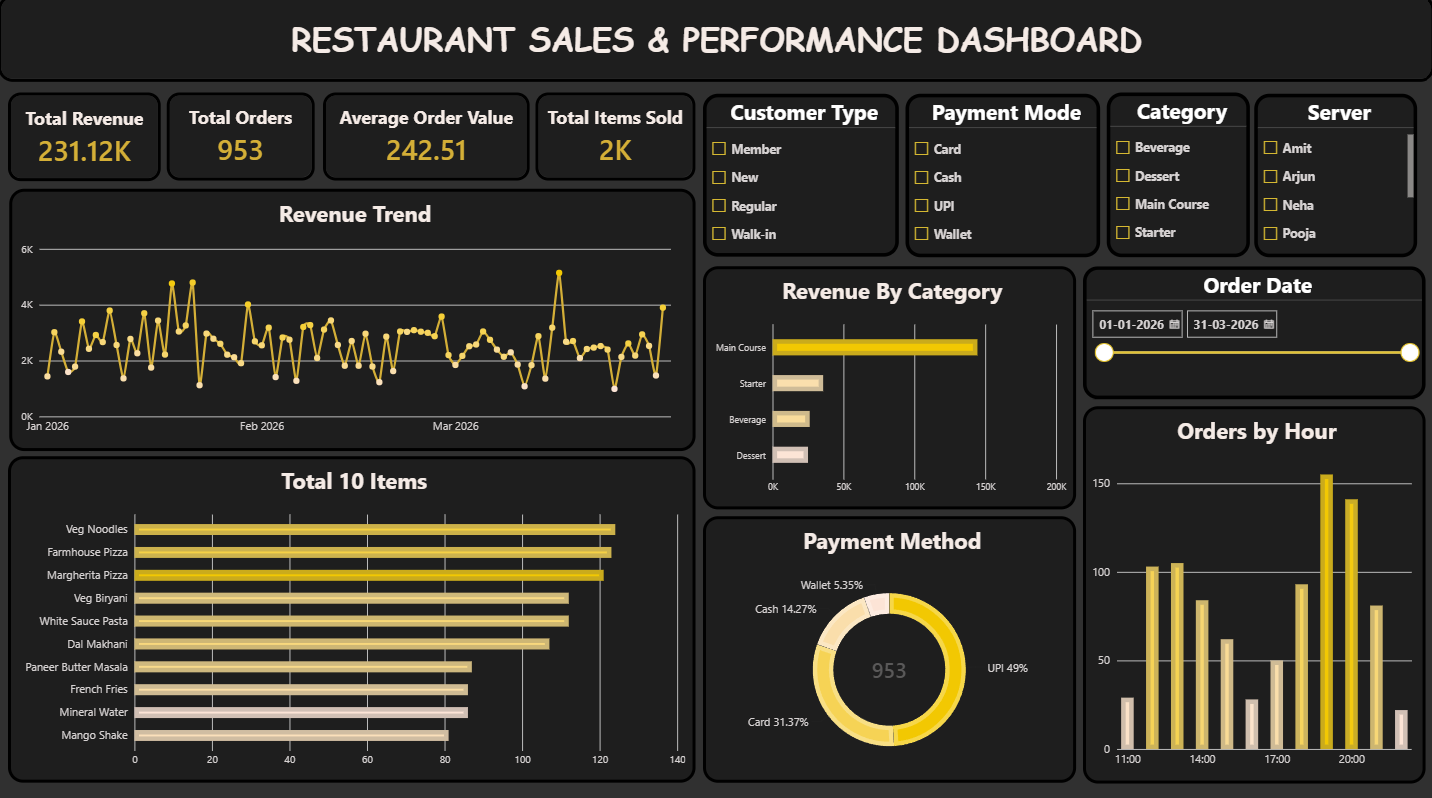

The page's visual inventory and layout, read from the dashboard file:
{"tool":"powerbi","page":{"name":"Executive Overview","canvas":[1920,1080],"ordinal":0},"visuals":[{"type":"cardVisual","fields":{"Data":["Sheet1.Total Revenue"]},"box":[14,130,204,118],"z":0},{"type":"shape","title":"│       RESTAURANT SALES & PERFORMANCE DASHBOARD       │","box":[0,0,1920.1,115.8],"z":1000},{"type":"cardVisual","fields":{"Data":["Sheet1.Total Orders"]},"box":[226.2,130,197.5,117.5],"z":2000},{"type":"cardVisual","fields":{"Data":["Sheet1.Average Order Value"]},"box":[433.8,130,276.2,117.5],"z":3000},{"type":"cardVisual","fields":{"Data":["Sheet1.Total Items Sold"]},"box":[718.8,130,213.8,117.5],"z":4000},{"type":"lineChart","title":"Revenue Trend","fields":{"Category":["Sheet1.Order_Date"],"Y":["Sheet1.Total Revenue"]},"box":[14.3,258.6,917.1,350],"z":5000},{"type":"clusteredBarChart","title":"Revenue By Category","fields":{"Category":["Sheet1.Category"],"Y":["Sheet1.Total Revenue"]},"box":[942.5,362.5,498.8,325],"z":6000},{"type":"barChart","title":"Total 10 Items","fields":{"Category":["Sheet1.Item"],"Y":["Sheet1.Total Items Sold"]},"box":[14,616,918,436],"z":7000},{"type":"columnChart","title":"Orders by Hour","fields":{"Category":["Sheet1.Order_Hour"],"Y":["Sheet1.Total Orders"]},"box":[1450,548.8,457.5,503.8],"z":8000},{"type":"donutChart","title":"Payment Method","fields":{"Category":["Sheet1.Payment_Mode"],"Y":["Sheet1.Total Orders"]},"box":[942.5,696.2,498.8,356.2],"z":9000},{"type":"slicer","title":"Order Date","fields":{"Values":["Sheet1.Order_Date"]},"box":[1450,362.5,457.5,177.5],"z":10000},{"type":"slicer","title":"Server","fields":{"Values":["Sheet1.Server"]},"box":[1678.8,131.2,217.5,218.8],"z":11000},{"type":"slicer","title":"Customer Type","fields":{"Values":["Sheet1.Customer_Type"]},"box":[942.5,132.5,261.2,217.5],"z":12000},{"type":"slicer","title":"Category","fields":{"Values":["Sheet1.Category"]},"box":[1481.2,130,191.2,220],"z":13000},{"type":"slicer","title":"Payment Mode","fields":{"Values":["Sheet1.Payment_Mode"]},"box":[1212.5,131.2,260,218.8],"z":14000}]}

Visuals, with their boxes in screenshot pixels (x1, y1, x2, y2), scaled from the page's 1920x1080 canvas onto the 1432x798 screenshot:
cardVisual - Sheet1.Total Revenue: bbox=[10, 96, 163, 183]
"│       RESTAURANT SALES & PERFORMANCE DASHBOARD       │" shape: bbox=[0, 0, 1431, 86]
cardVisual - Sheet1.Total Orders: bbox=[169, 96, 316, 183]
cardVisual - Sheet1.Average Order Value: bbox=[324, 96, 530, 183]
cardVisual - Sheet1.Total Items Sold: bbox=[536, 96, 696, 183]
"Revenue Trend" lineChart: bbox=[11, 191, 695, 450]
"Revenue By Category" clusteredBarChart: bbox=[703, 268, 1075, 508]
"Total 10 Items" barChart: bbox=[10, 455, 695, 777]
"Orders by Hour" columnChart: bbox=[1081, 406, 1423, 778]
"Payment Method" donutChart: bbox=[703, 514, 1075, 778]
"Order Date" slicer: bbox=[1081, 268, 1423, 399]
"Server" slicer: bbox=[1252, 97, 1414, 259]
"Customer Type" slicer: bbox=[703, 98, 898, 259]
"Category" slicer: bbox=[1105, 96, 1247, 259]
"Payment Mode" slicer: bbox=[904, 97, 1098, 259]
